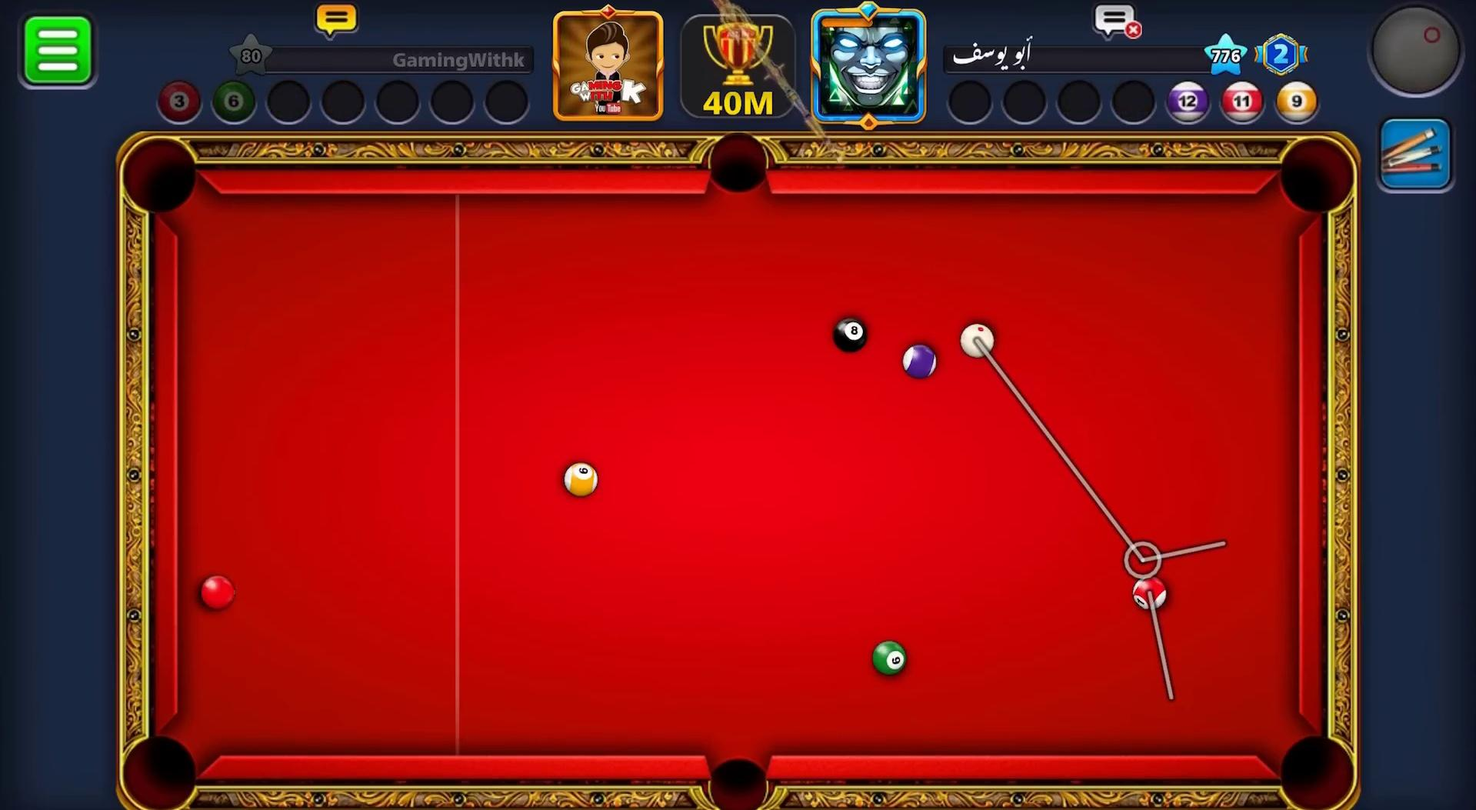Ball: (868, 638, 913, 681), (828, 312, 870, 356), (1126, 578, 1171, 612), (199, 573, 237, 611), (902, 340, 938, 379), (563, 461, 599, 497)
Guideline: (971, 335, 1235, 568), (1142, 591, 1179, 704), (1121, 541, 1166, 580)
Hole: (1258, 714, 1371, 810), (696, 743, 785, 810), (1277, 138, 1352, 215), (121, 137, 197, 211), (122, 734, 199, 807), (708, 133, 768, 192)
Play_Area: (180, 195, 1299, 756)
Spin: (1360, 0, 1476, 104)
White: (954, 319, 1002, 363)
